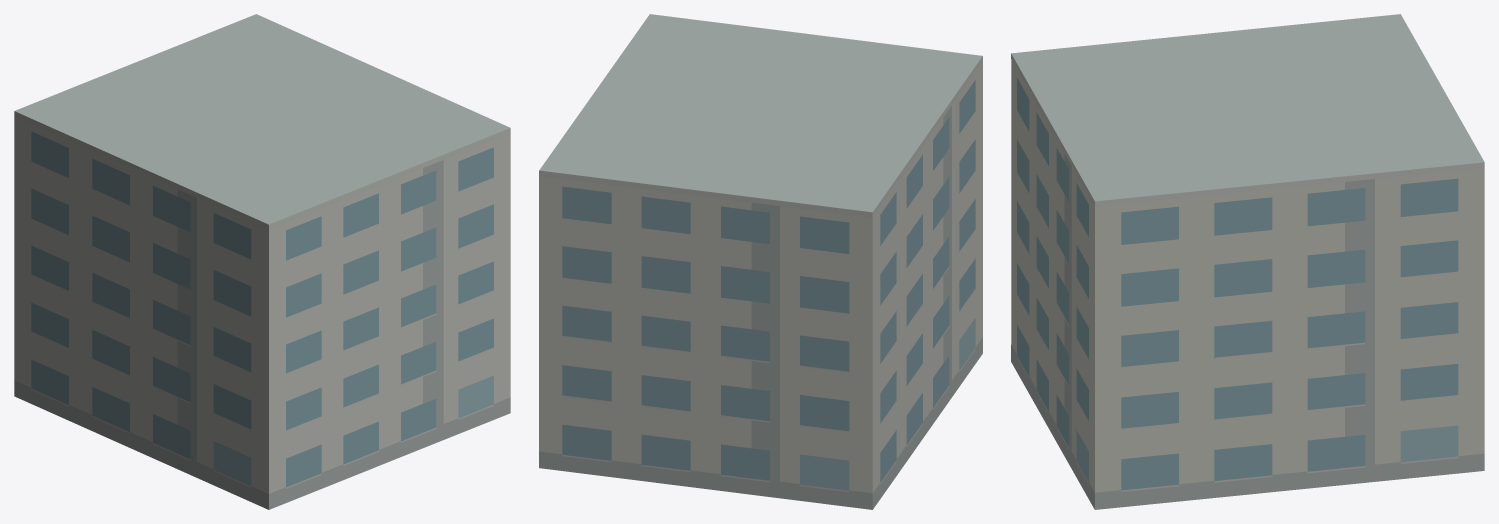
The model's file is survey-upis-32942290.glb.
3 views of the same model, side by side, from view 1: azimuth 30°, elevation 25°; view 2: azimuth 150°, elevation 25°; view 3: azimuth 270°, elevation 25° (orthographic). The views are drawn at different scales.
Visible parts, largest first — view 1: survey-upis-32942290.tmp; view 2: survey-upis-32942290.tmp; view 3: survey-upis-32942290.tmp.
Part boxes in pixels (x1,y1,x2,y2): survey-upis-32942290.tmp: [14, 14, 510, 509]; survey-upis-32942290.tmp: [539, 14, 982, 509]; survey-upis-32942290.tmp: [1011, 14, 1484, 509].
Bounding box in the file's own units: 17.33 × 13.3 × 18.51.
